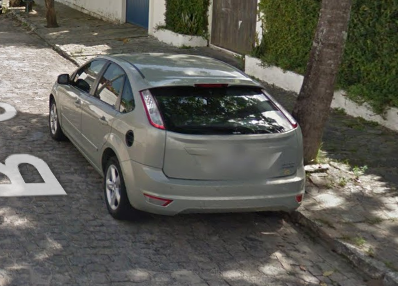car: (46, 47, 310, 226)
